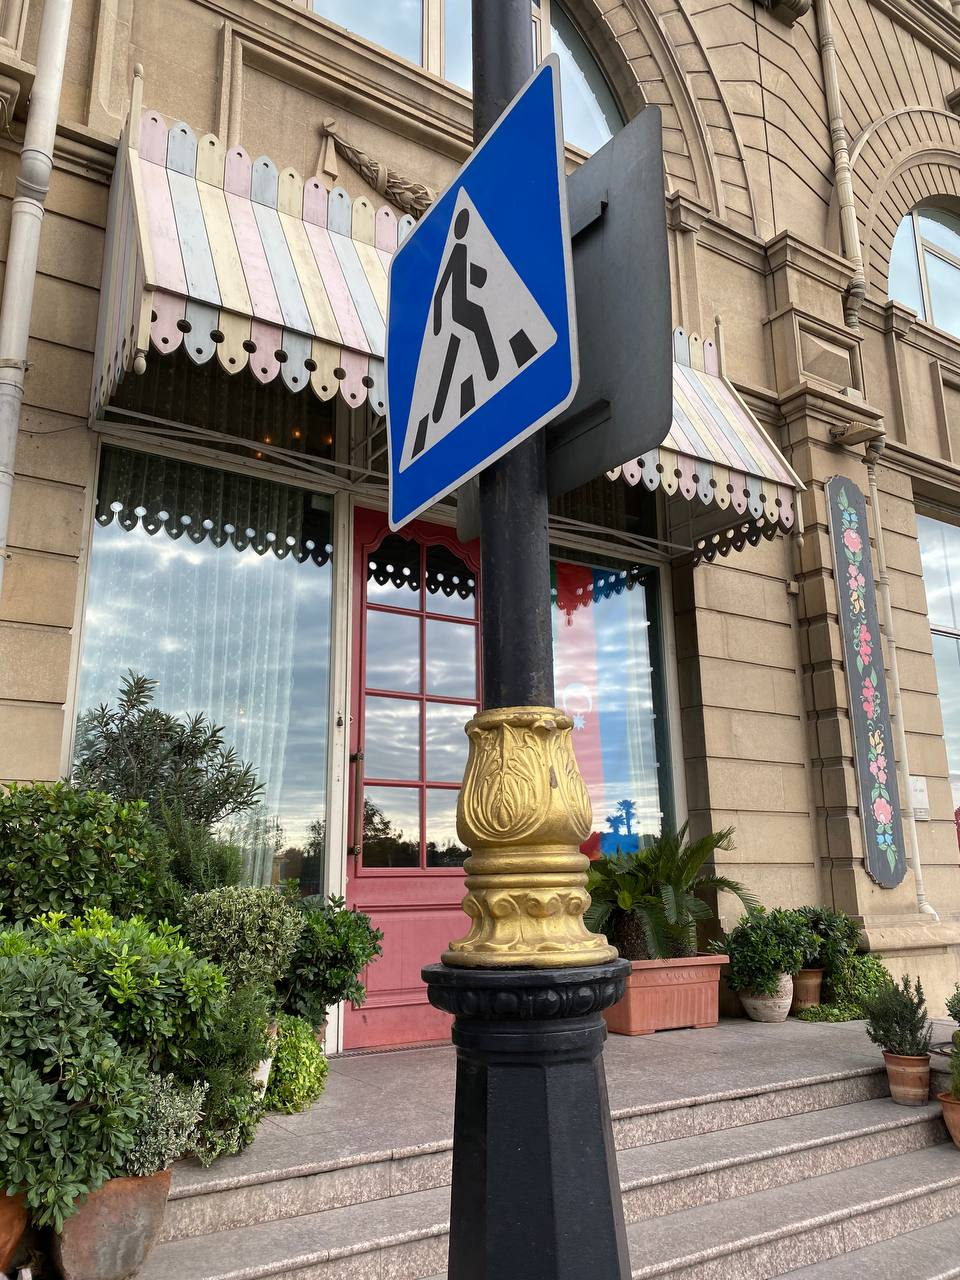Pedestrian Crossing: (386, 52, 580, 532)
